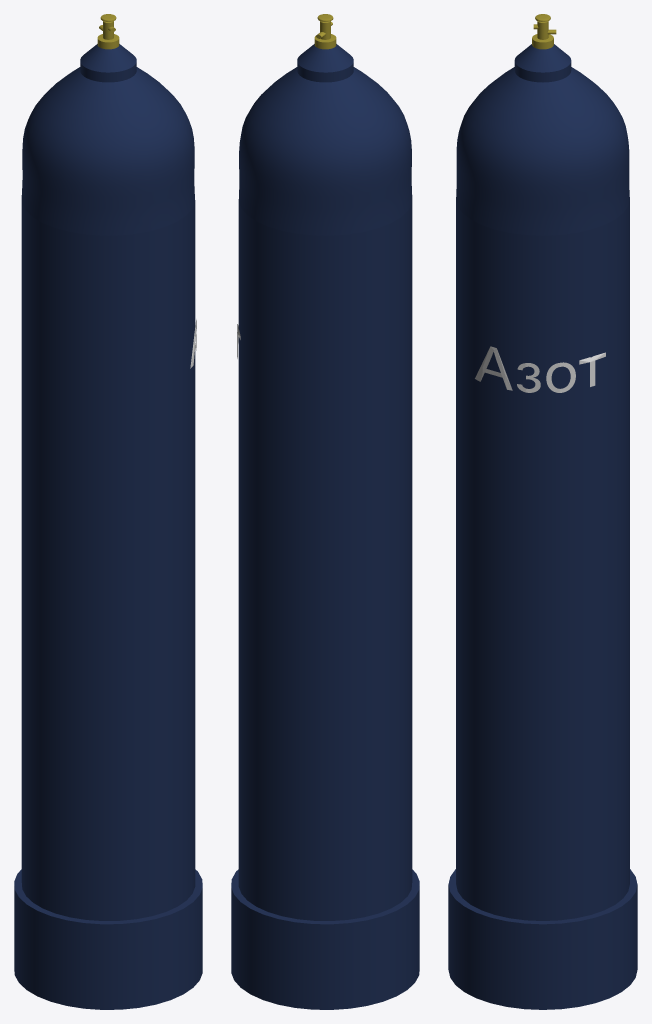
The model's file is GasBallonN.fbx.
The picture shows the model from 3 angles, left to right: view 1: azimuth 30°, elevation 25°; view 2: azimuth 150°, elevation 25°; view 3: azimuth 270°, elevation 25°; orthographic projection.
Visible parts, largest first — view 1: Cylinder, Tap; view 2: Cylinder, Tap; view 3: Cylinder, Text, Tap.
Part boxes in pixels (x1,y1,x2,y2): Cylinder: (14,44,202,1009); Tap: (97,14,119,49); Cylinder: (231,44,419,1009); Tap: (314,14,336,49); Cylinder: (448,44,637,1009); Text: (475,346,605,392); Tap: (532,14,556,49).
Bounding box in the file's own units: 200 × 1112 × 200.
